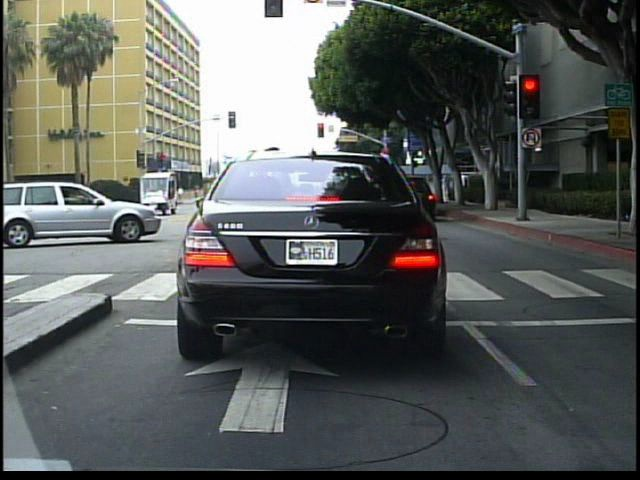person: (262, 146, 303, 284), (235, 144, 268, 280)
